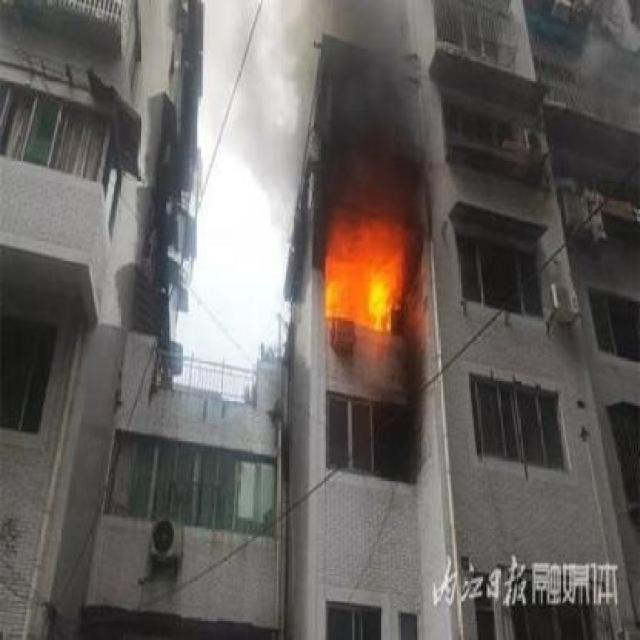Fire: (322, 214, 418, 337)
